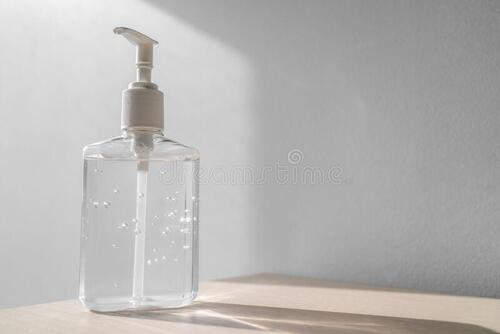sanitizer: (77, 26, 201, 312)
